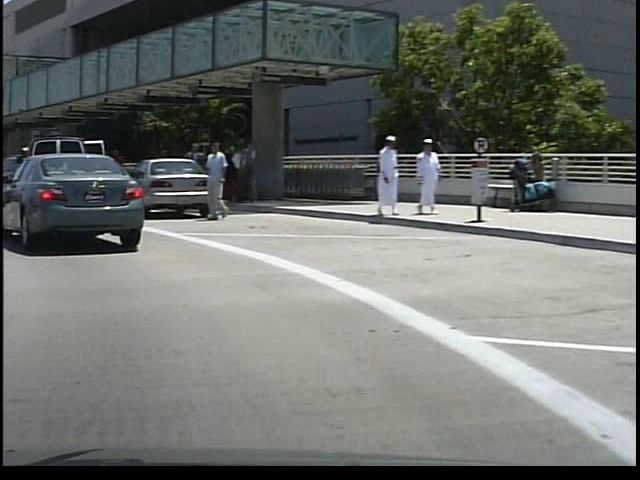person: (199, 135, 233, 228), (409, 132, 442, 218), (367, 132, 398, 220), (228, 140, 252, 207)
